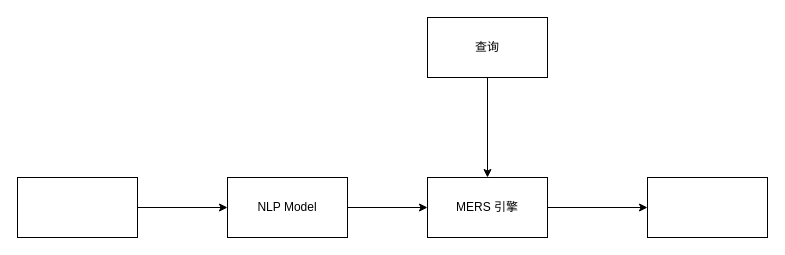
Some shapes in this 785 by 255 pixel diagram are drawn without their labels. Each missing label, with the box of its shape:
查询文本: (16, 176, 138, 238)
查询结果: (646, 176, 768, 238)
